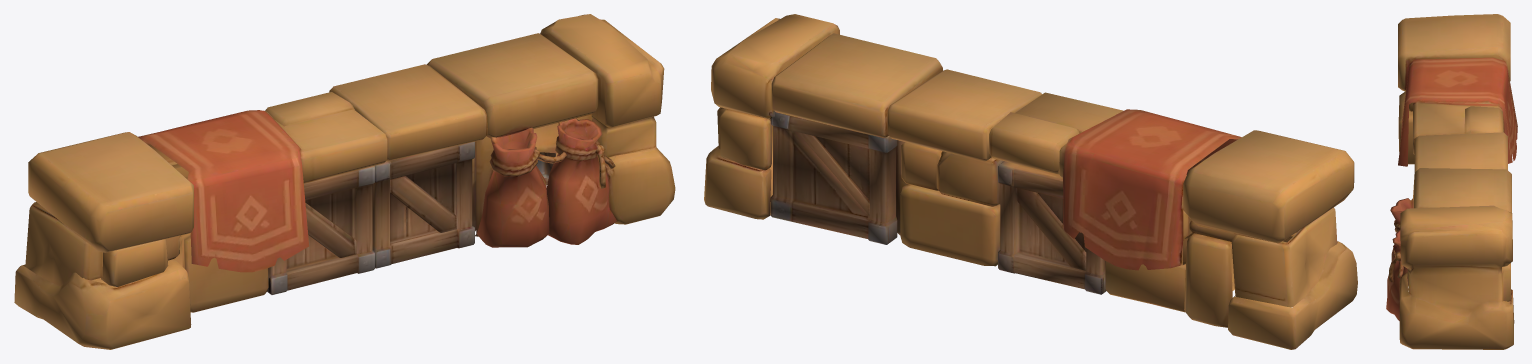
The model's file is SM_Tripo_DesertBarricade.glb.
The picture shows the model from 3 angles, left to right: view 1: azimuth 30°, elevation 25°; view 2: azimuth 150°, elevation 25°; view 3: azimuth 270°, elevation 25°; orthographic projection. The views are drawn at different scales.
Parts seen in each view (by area): view 1: SM_Tripo_DesertBarricade_LOD0; view 2: SM_Tripo_DesertBarricade_LOD0; view 3: SM_Tripo_DesertBarricade_LOD0.
Boxes of the visible parts, bbox=[...] form: SM_Tripo_DesertBarricade_LOD0: bbox=[14, 14, 675, 349]; SM_Tripo_DesertBarricade_LOD0: bbox=[704, 14, 1357, 349]; SM_Tripo_DesertBarricade_LOD0: bbox=[1386, 14, 1517, 349].
Bounding box in the file's own units: 4.77 × 1.2 × 1.18.
Materials: 1 (1 with a texture image).
